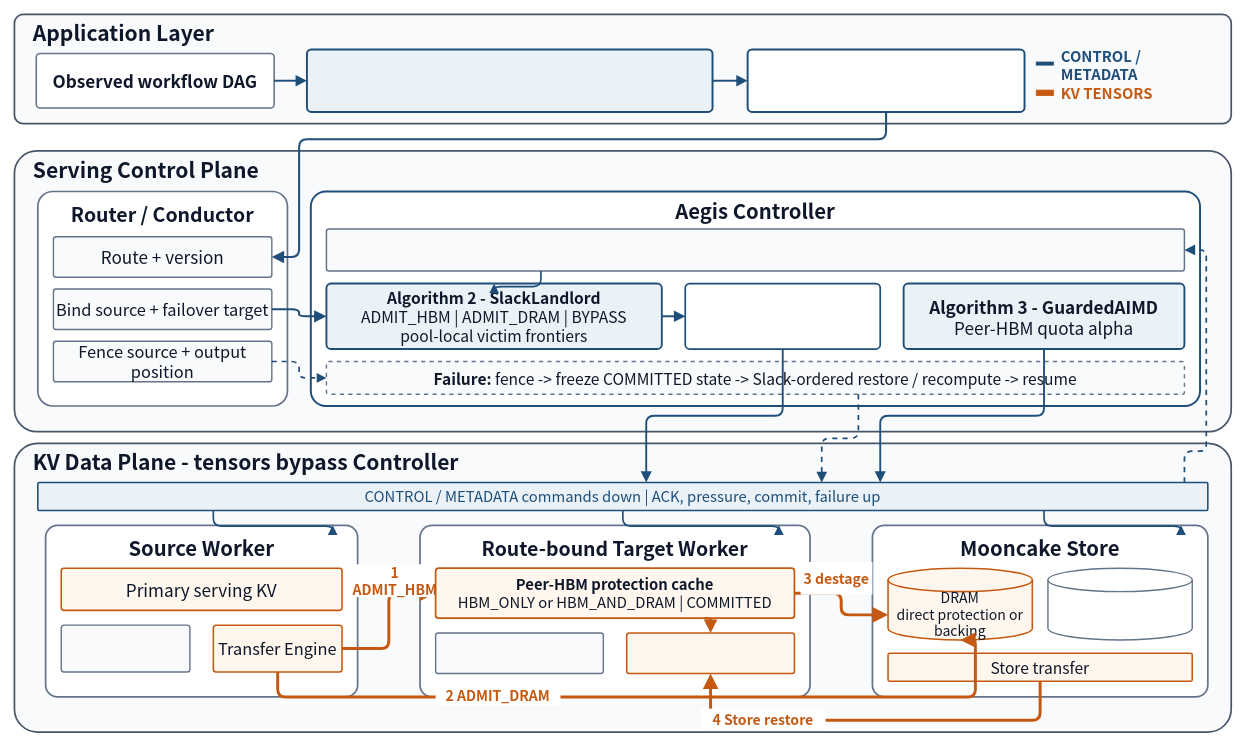
This 1246x746 diagram has some shape labels left out. Each missing label, with the centre of its shape:
"Action Queue protect | destage | reclaim" belongs at point 782,316.
"Algorithm 1 - Causal Slack GBDT remaining time -> CPM Slack" belongs at point 509,80.
"Chunk sealer" belongs at point 125,648.
"Destage executor" belongs at point 519,653.
"Recovery executor" belongs at point 710,653.
"Request + Slack metadata workflow | agent | route version" belongs at point 885,80.
"SSD optional tier" belongs at point 1120,603.
"Store Master / KV Directory" belongs at point 755,249.
